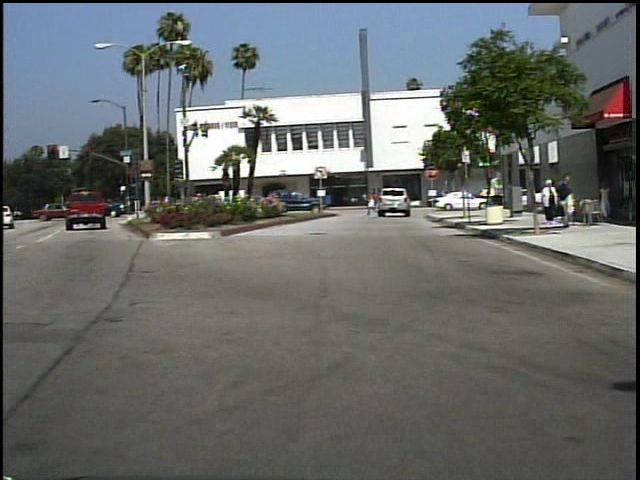person: (558, 173, 579, 230), (541, 178, 560, 225), (597, 178, 614, 224), (479, 181, 502, 214), (366, 188, 381, 219)
